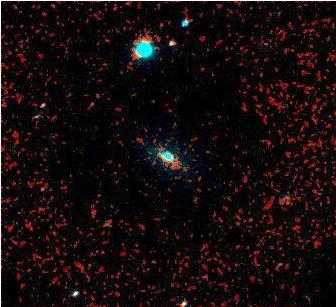star: (157, 26, 187, 56)
